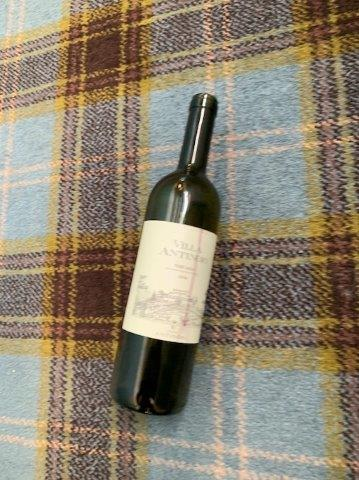botolkaca: (110, 93, 222, 417)
